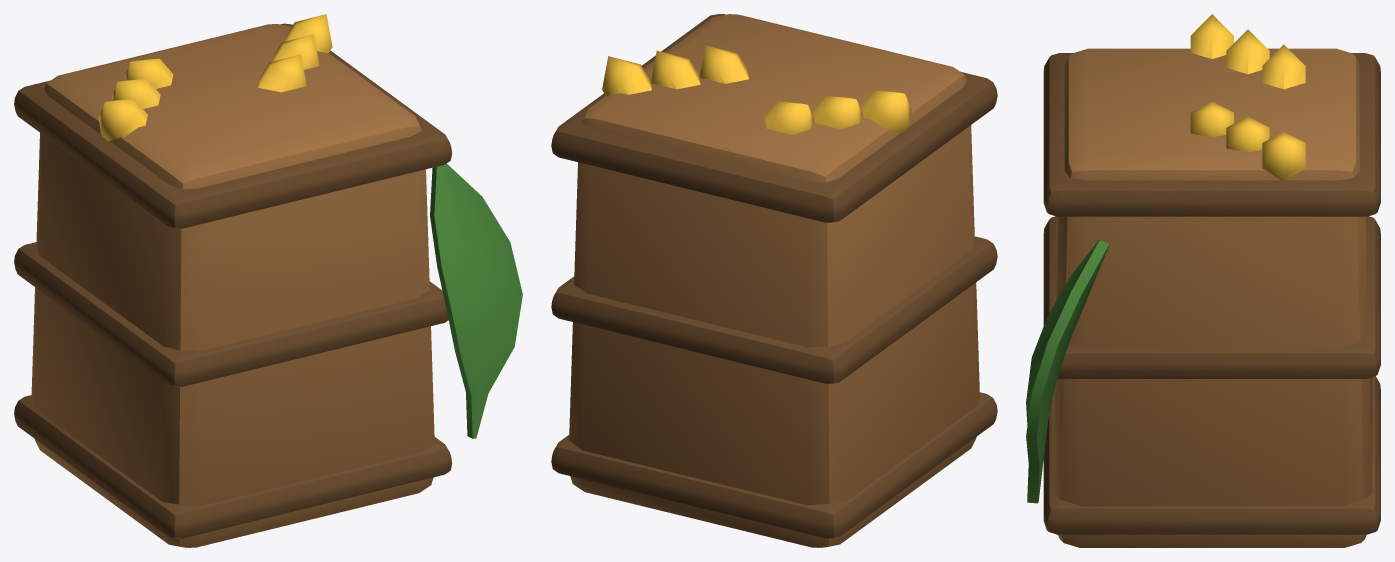
The model's file is W2_Crate_C.fbx.
3 views of the same model, side by side, from view 1: azimuth 30°, elevation 25°; view 2: azimuth 150°, elevation 25°; view 3: azimuth 270°, elevation 25° (orthographic). The views are drawn at different scales.
Visible parts, largest first — view 1: W2_Crate_C; view 2: W2_Crate_C; view 3: W2_Crate_C.
Part boxes in pixels (<box>): W2_Crate_C: <box>14,14,522,547</box>; W2_Crate_C: <box>551,14,997,547</box>; W2_Crate_C: <box>1026,14,1380,547</box>.
Bounding box in the file's own units: 1.14 × 1.27 × 0.9915.
